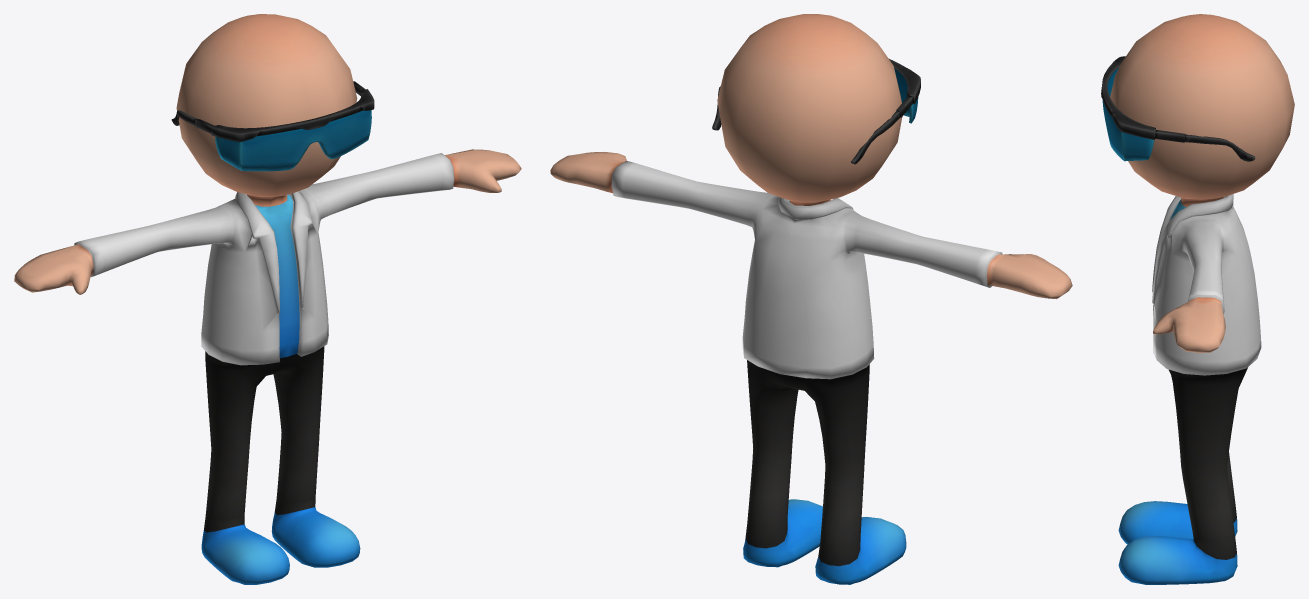
3 views of the same model, side by side, from view 1: azimuth 30°, elevation 25°; view 2: azimuth 150°, elevation 25°; view 3: azimuth 270°, elevation 25° (orthographic). The views are drawn at different scales.
Visible parts, largest first — view 1: human_0, glasses_1, glasses_0; view 2: human_0, glasses_0; view 3: human_0, glasses_0, glasses_1.
Part boxes in pixels (<box>): human_0: <box>14,14,521,584</box>; glasses_1: <box>215,110,371,171</box>; glasses_0: <box>171,81,374,141</box>; human_0: <box>550,14,1072,584</box>; glasses_0: <box>712,59,920,164</box>; human_0: <box>1110,14,1294,584</box>; glasses_0: <box>1101,56,1255,161</box>; glasses_1: <box>1102,68,1154,161</box>.
Size of the model in its own units: 6.67 by 6.72 by 2.21.
